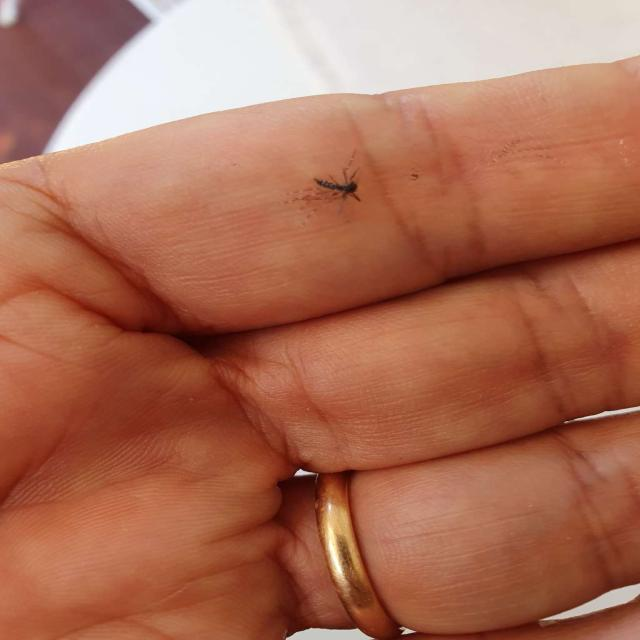albopictus: (282, 145, 379, 218)
